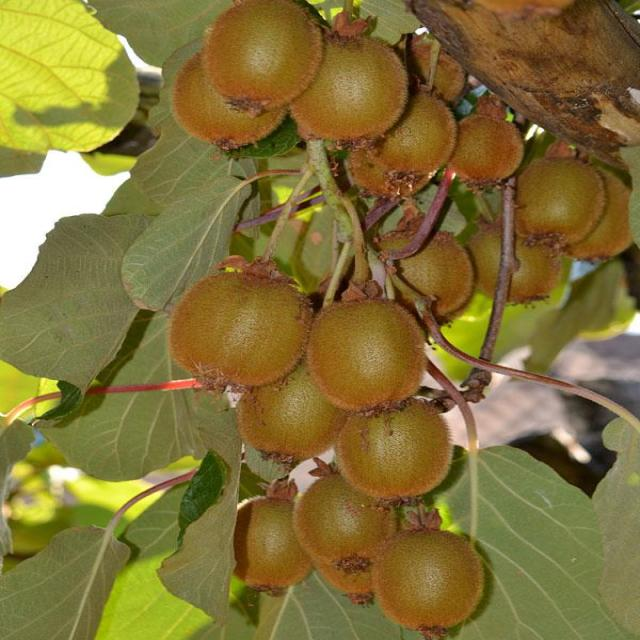kiwi: (163, 261, 320, 390), (301, 293, 434, 416), (366, 527, 492, 640), (285, 31, 410, 144), (205, 1, 330, 114), (333, 395, 461, 501), (226, 489, 330, 603), (294, 473, 408, 571), (230, 375, 358, 462), (171, 48, 281, 149), (501, 152, 609, 251), (386, 219, 487, 321), (461, 216, 574, 305), (568, 165, 640, 269), (366, 93, 454, 175), (445, 109, 530, 187), (320, 559, 397, 616)
